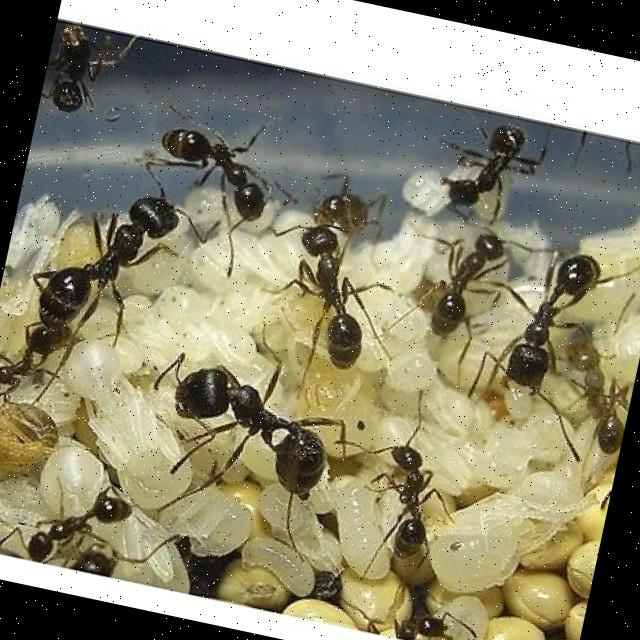Minor: (310, 376, 484, 591), (136, 99, 304, 280), (250, 207, 407, 395), (398, 219, 540, 373), (433, 108, 550, 226), (543, 338, 640, 460), (0, 305, 80, 426)
Soldier: (129, 322, 362, 555), (23, 140, 228, 363), (461, 228, 640, 463)
